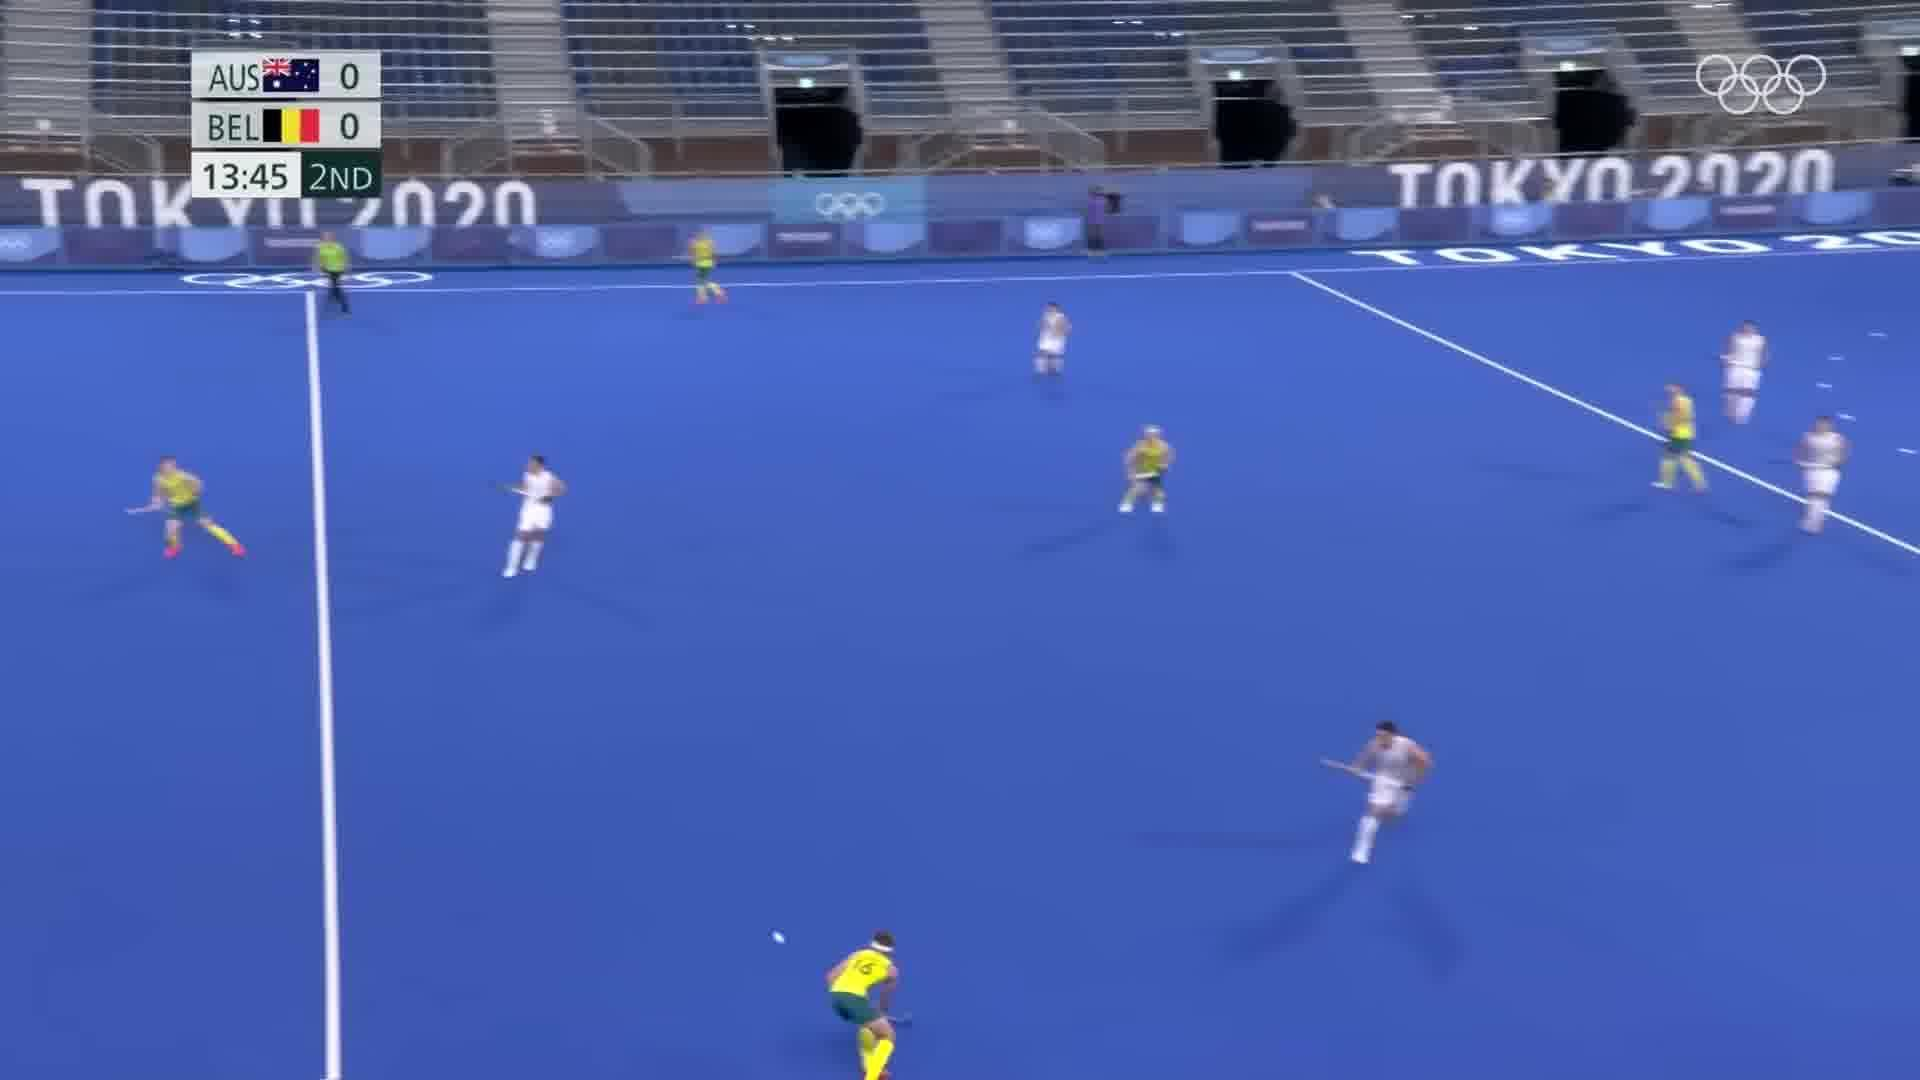ball: (763, 923, 793, 952)
